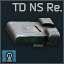P226 Meprolight TRU-DOT Night rear sight: (0, 0, 64, 64)
